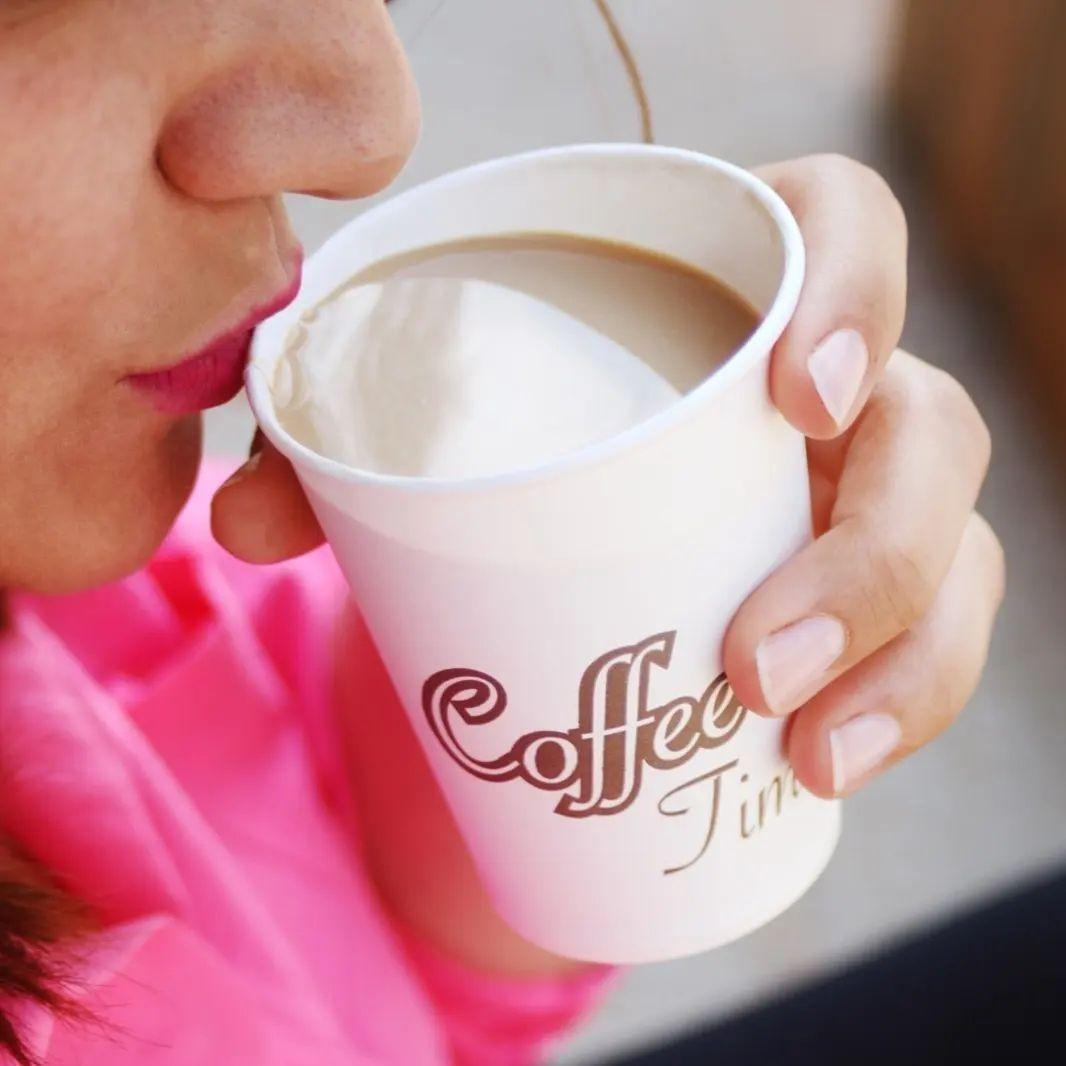cup-disposable: (218, 127, 893, 970)
